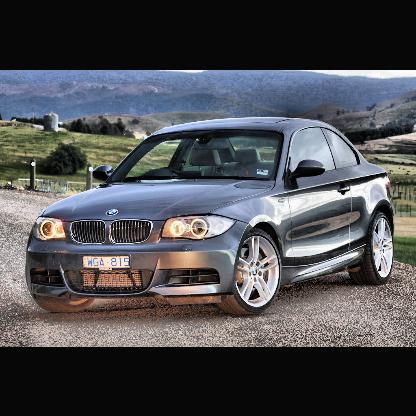BMW 1 Series Coupe 2012: (25, 115, 395, 316)
